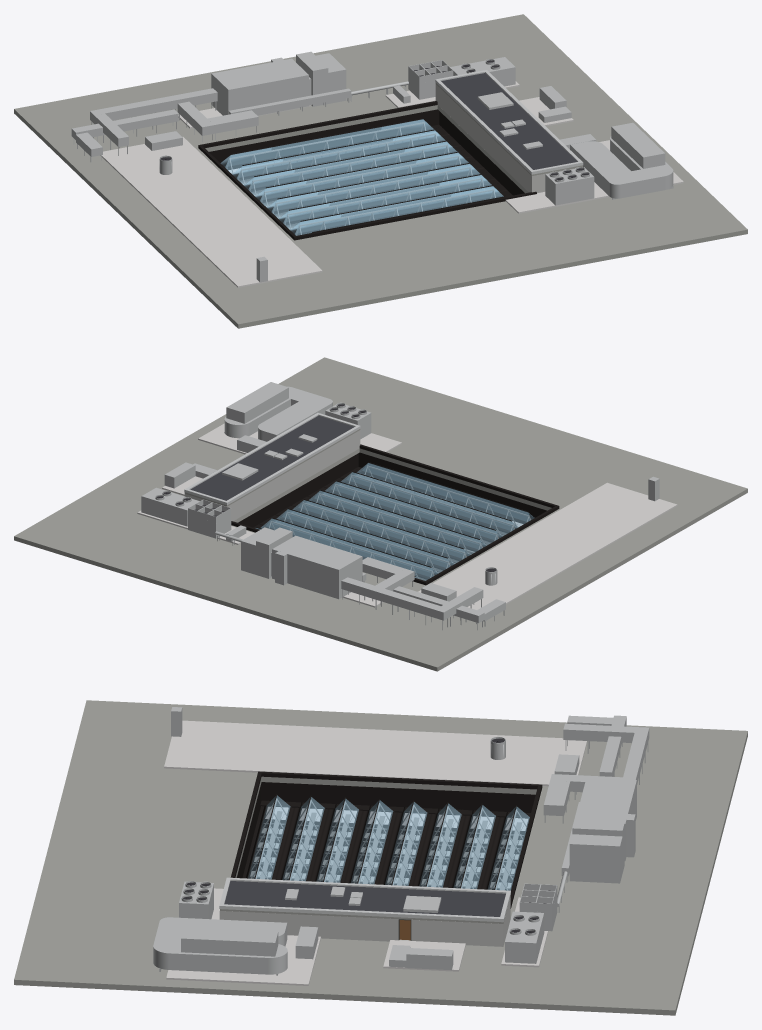
Rendered from tib_dach.glb.
The picture shows the model from 3 angles, top to bottom: view 1: azimuth 30°, elevation 25°; view 2: azimuth 150°, elevation 25°; view 3: azimuth 270°, elevation 25°; orthographic projection. The views are drawn at different scales.
Visible parts, largest first — view 1: tib_dach__TIB Farbe 176-176-172, tib_dach__TIB Glas 60-60-60; view 2: tib_dach__TIB Farbe 176-176-172, tib_dach__TIB Glas 60-60-60; view 3: tib_dach__TIB Farbe 176-176-172, tib_dach__TIB Glas 60-60-60.
Boxes of the visible parts, <box> form: tib_dach__TIB Farbe 176-176-172: <box>14,14,747,328</box>; tib_dach__TIB Glas 60-60-60: <box>220,119,503,235</box>; tib_dach__TIB Farbe 176-176-172: <box>14,357,747,671</box>; tib_dach__TIB Glas 60-60-60: <box>255,463,534,580</box>; tib_dach__TIB Farbe 176-176-172: <box>14,700,747,1015</box>; tib_dach__TIB Glas 60-60-60: <box>248,795,529,890</box>.
Size of the model in its own units: 57.93 by 8.06 by 57.93.
Materials: 2 (2 with a texture image).
